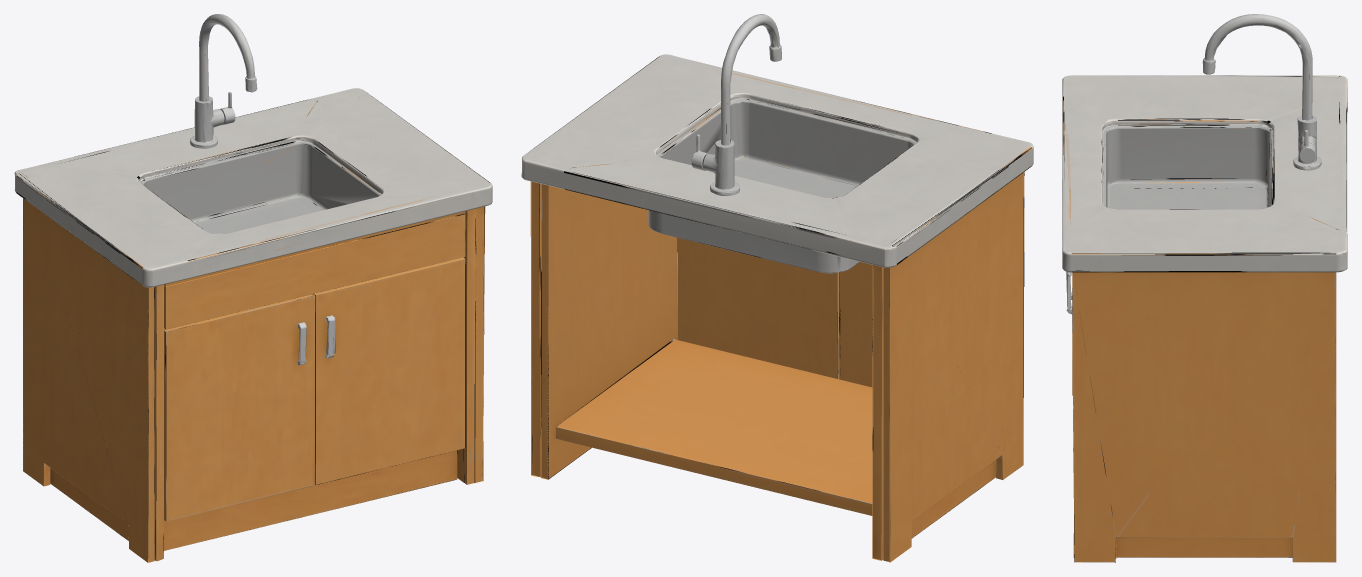
Rendered from LabSinkCounter.glb.
The picture shows the model from 3 angles, left to right: view 1: azimuth 30°, elevation 25°; view 2: azimuth 150°, elevation 25°; view 3: azimuth 270°, elevation 25°; orthographic projection. The views are drawn at different scales.
Visible parts, largest first — view 1: geometry_0; view 2: geometry_0; view 3: geometry_0.
Boxes of the visible parts, <box> form: geometry_0: <box>14,14,492,562</box>; geometry_0: <box>521,14,1033,562</box>; geometry_0: <box>1062,14,1347,562</box>.
Size of the model in its own units: 0.7886 by 0.9507 by 0.5327.
1 material, 1 textured.
